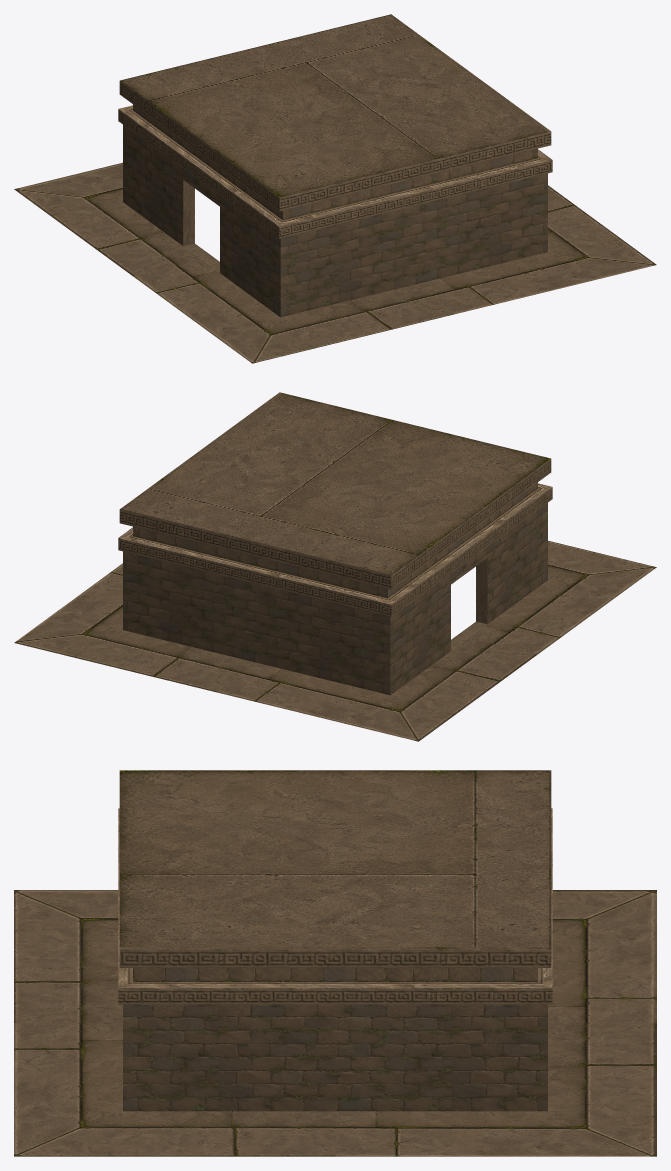
Rendered from outertop.fbx.
3 renders of one model, top to bottom at view 1: azimuth 30°, elevation 25°; view 2: azimuth 150°, elevation 25°; view 3: azimuth 270°, elevation 25°, orthographic. The views are drawn at different scales.
Visible parts, largest first — view 1: outertop; view 2: outertop; view 3: outertop.
Boxes of the visible parts, x1=… form: outertop: x1=14, y1=14, x2=656, y2=363; outertop: x1=14, y1=392, x2=656, y2=741; outertop: x1=14, y1=770, x2=656, y2=1156.
Size of the model in its own units: 233 by 66.69 by 238.
Materials: 3 (3 with a texture image).
